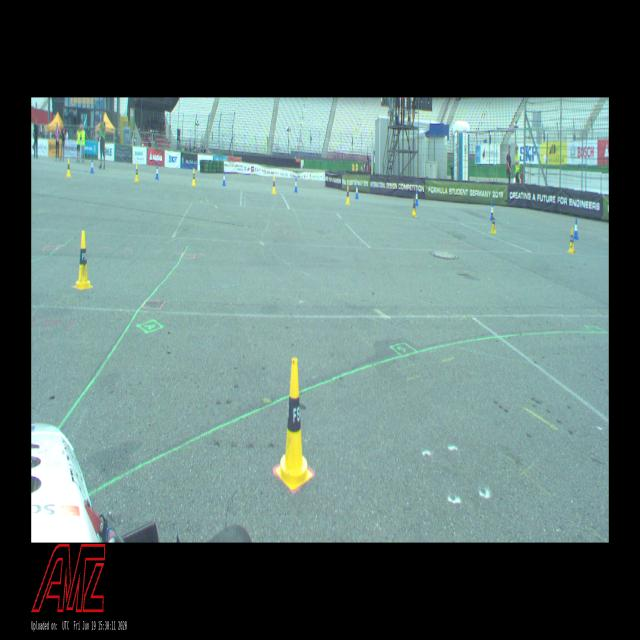blue_cone: (573, 218, 579, 240), (294, 176, 298, 192), (415, 190, 419, 206), (90, 158, 94, 173), (222, 171, 226, 186), (355, 184, 359, 199), (155, 165, 159, 179), (490, 202, 493, 220)
yellow_cone: (276, 358, 312, 490), (74, 231, 92, 289), (568, 228, 575, 253), (490, 211, 496, 234), (66, 158, 71, 178), (412, 196, 416, 217), (346, 185, 350, 205), (272, 175, 276, 194), (135, 164, 139, 182), (192, 168, 196, 186)
